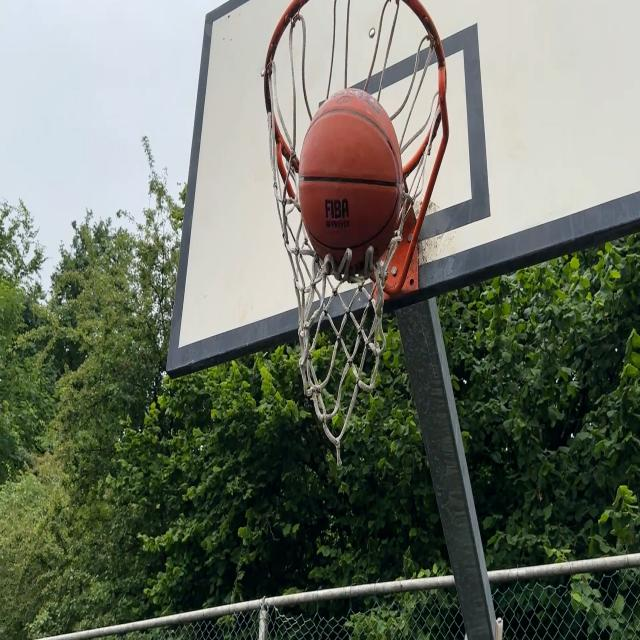Basketball: (300, 87, 403, 276)
